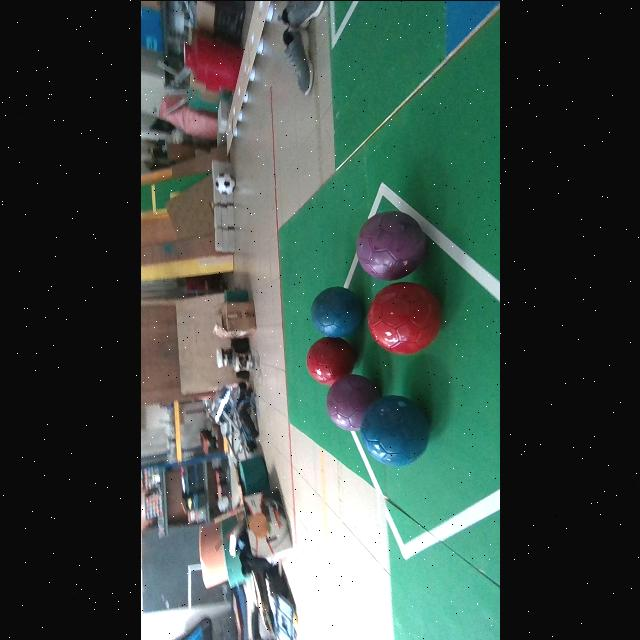B: (359, 394, 428, 465), (311, 286, 363, 337)
P: (356, 210, 425, 280), (325, 374, 380, 430)
R: (367, 281, 441, 354), (306, 336, 355, 384)
